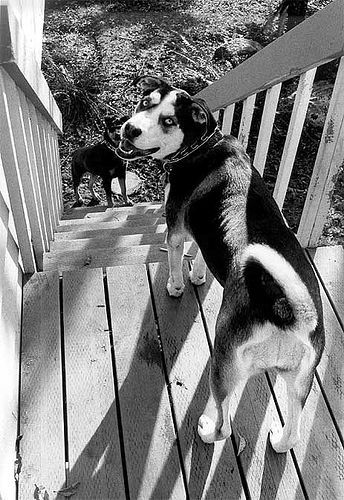dog: (115, 70, 325, 453), (66, 115, 133, 211)
